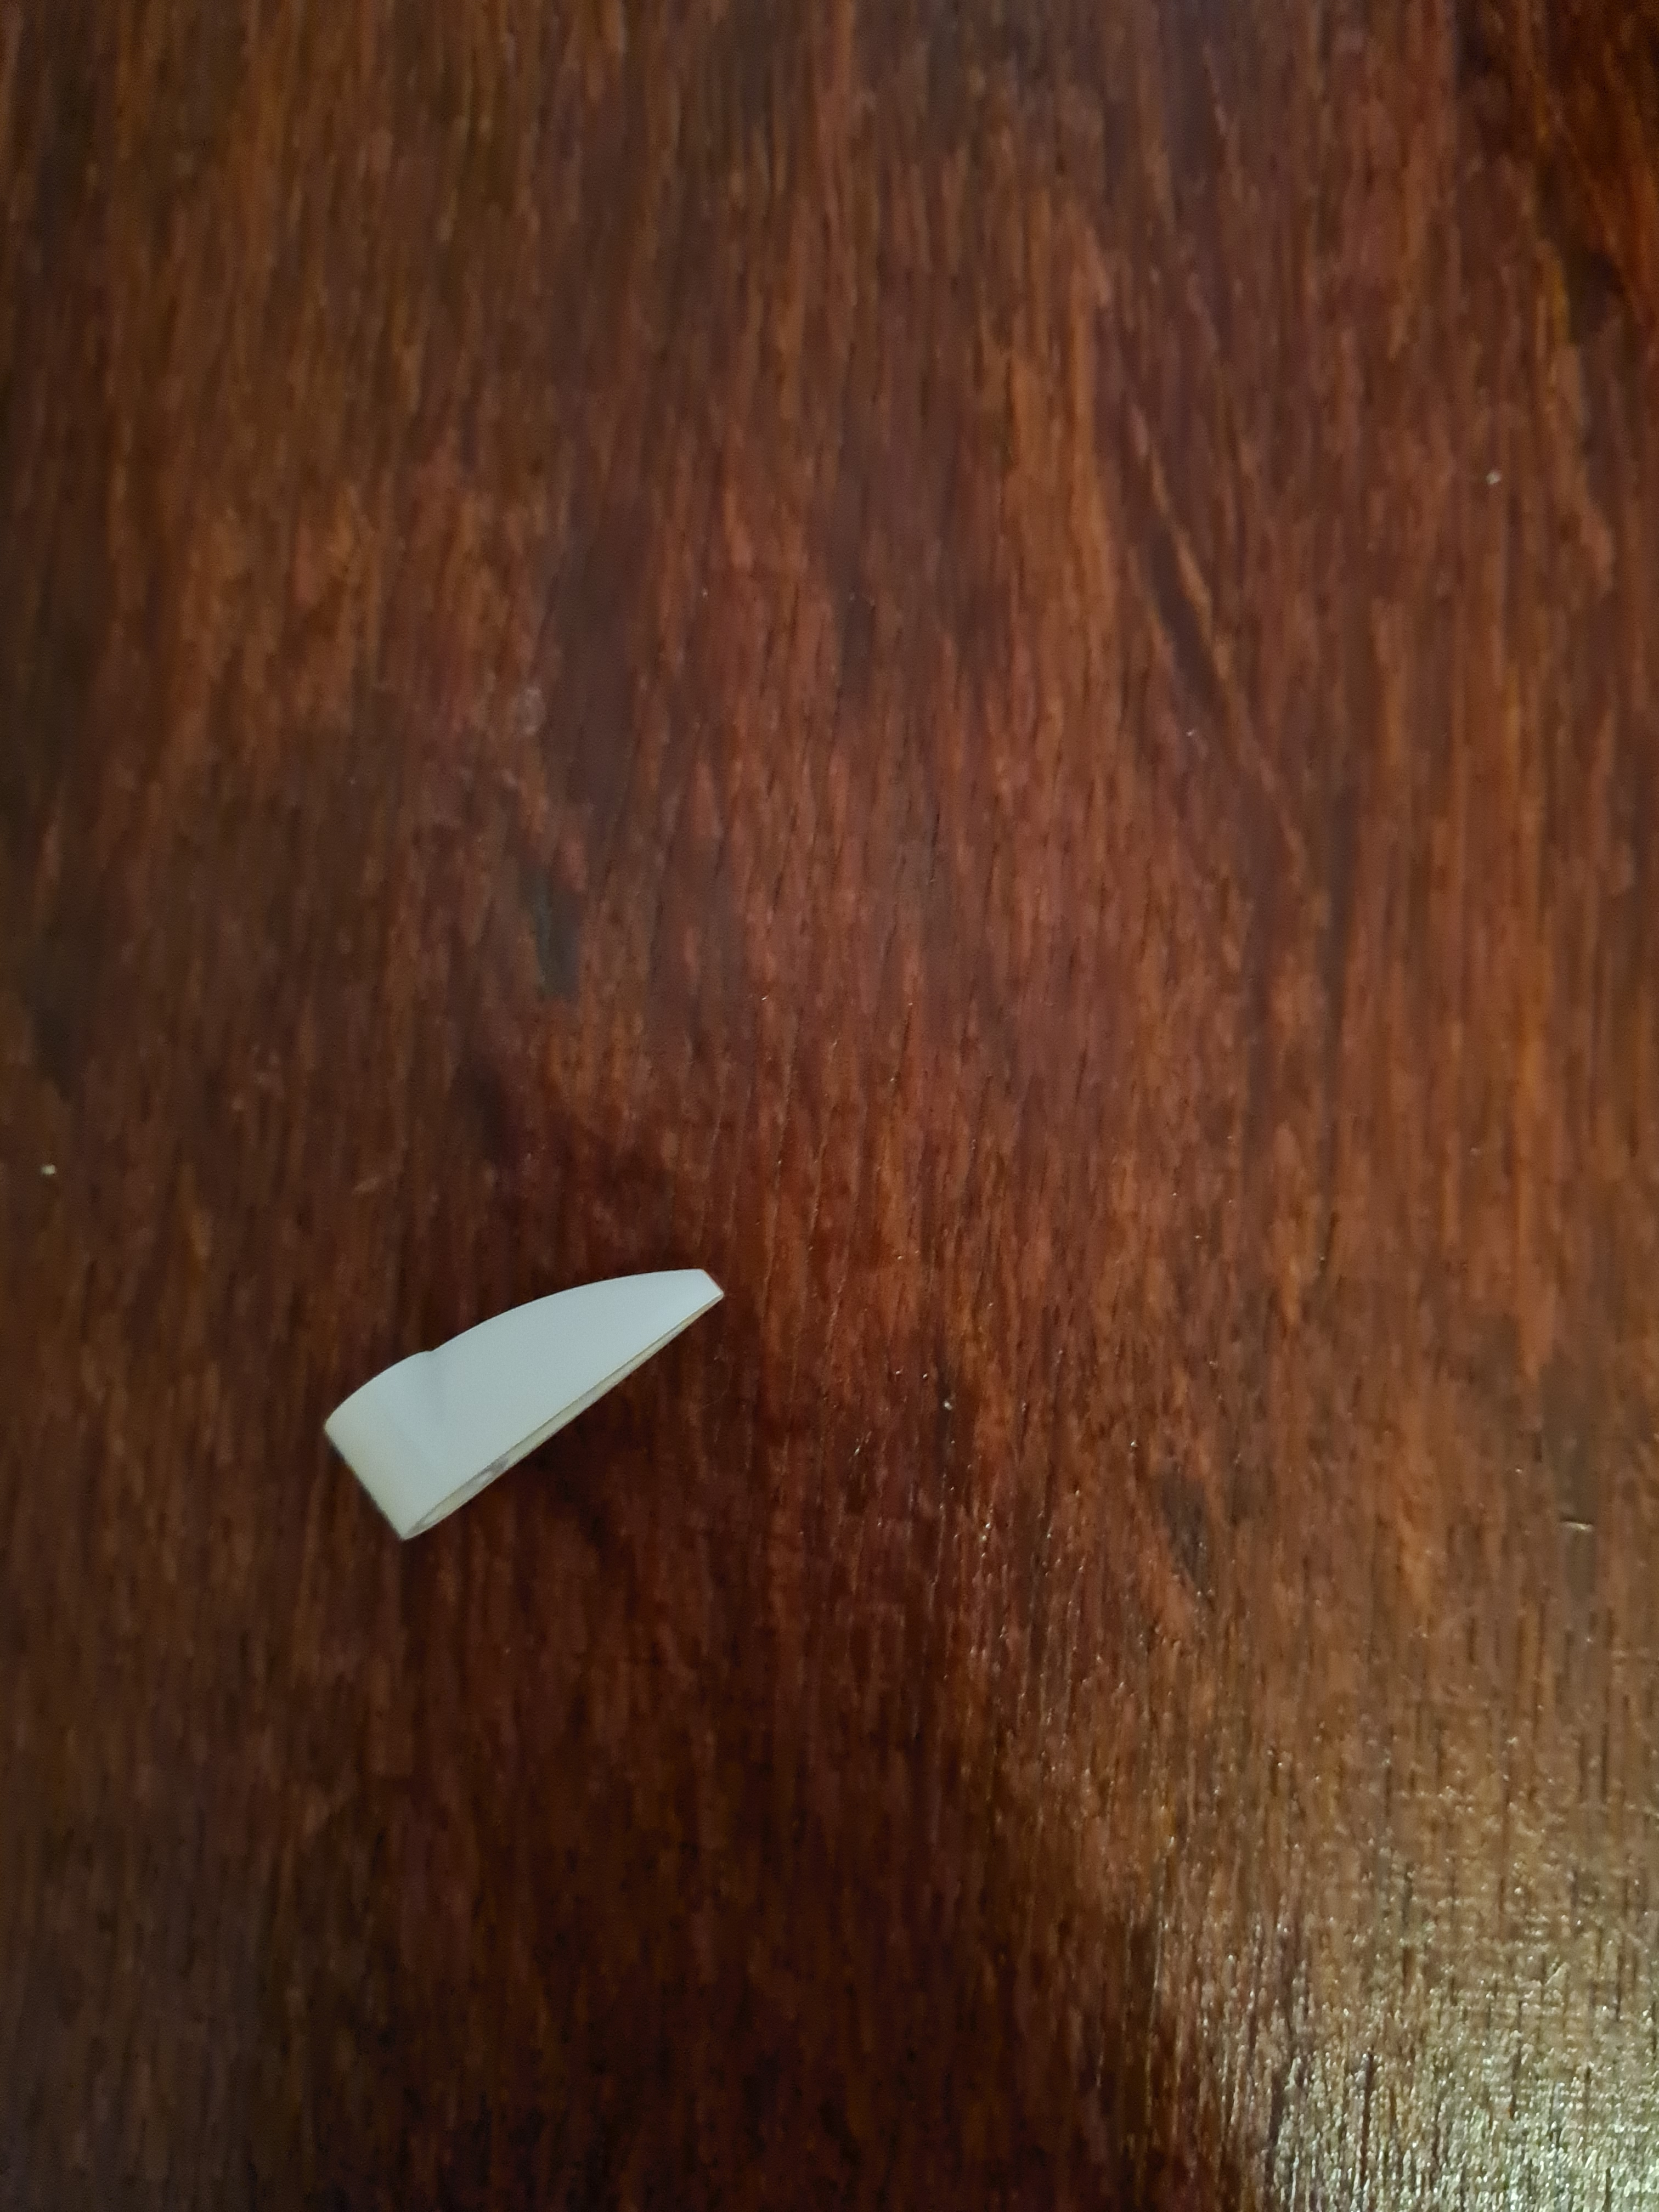Kappe: (305, 1247, 742, 1569)
